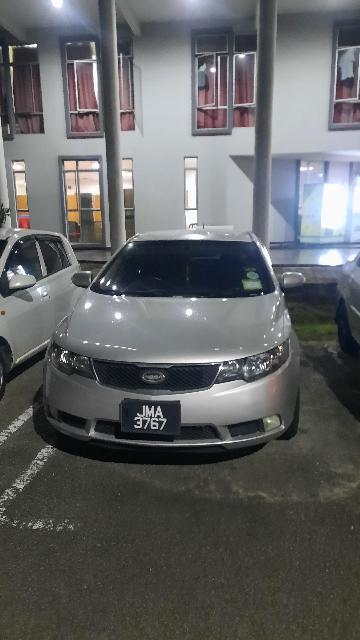License_Plate: (120, 396, 183, 440)
car: (38, 226, 306, 457)
